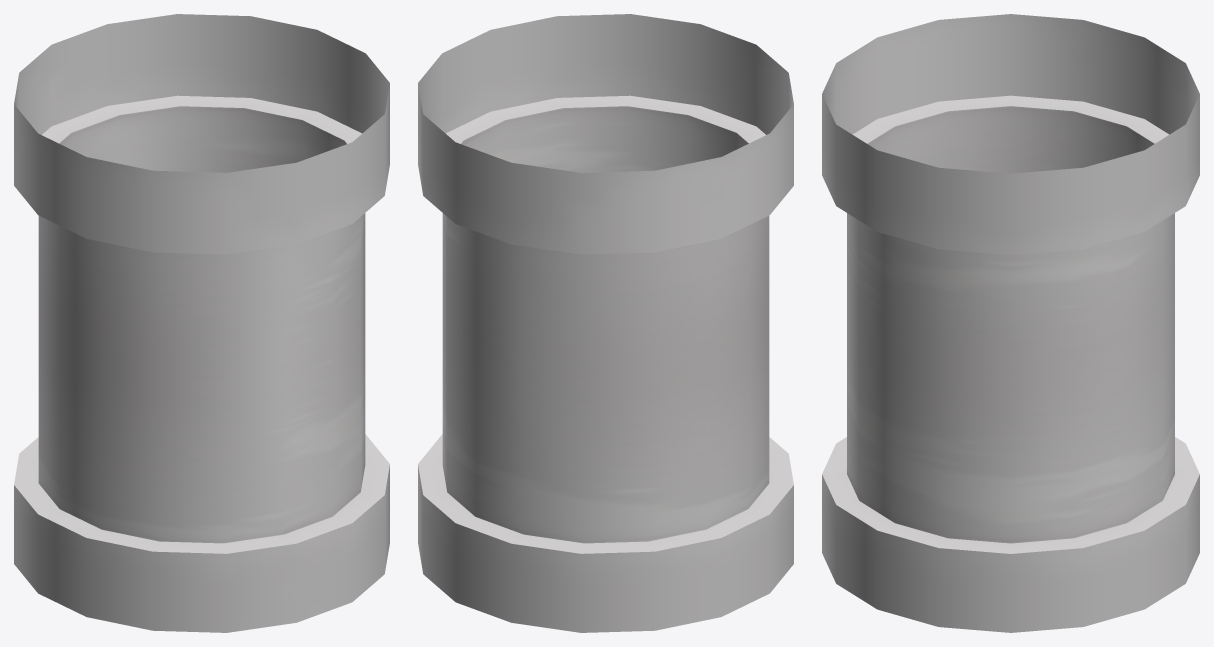
File: Pipe6__2.fbx
3 renders of one model, left to right at view 1: azimuth 30°, elevation 25°; view 2: azimuth 150°, elevation 25°; view 3: azimuth 270°, elevation 25°, orthographic.
Parts seen in each view (by area): view 1: Mat_Pipe_01 2; view 2: Mat_Pipe_01 2; view 3: Mat_Pipe_01 2.
Part boxes in pixels (x1=…): Mat_Pipe_01 2: x1=14, y1=14, x2=389, y2=632; Mat_Pipe_01 2: x1=418, y1=14, x2=793, y2=632; Mat_Pipe_01 2: x1=822, y1=14, x2=1199, y2=632.
Size of the model in its own units: 0.3455 by 0.4633 by 0.3455.
Materials: 1 (1 with a texture image).
